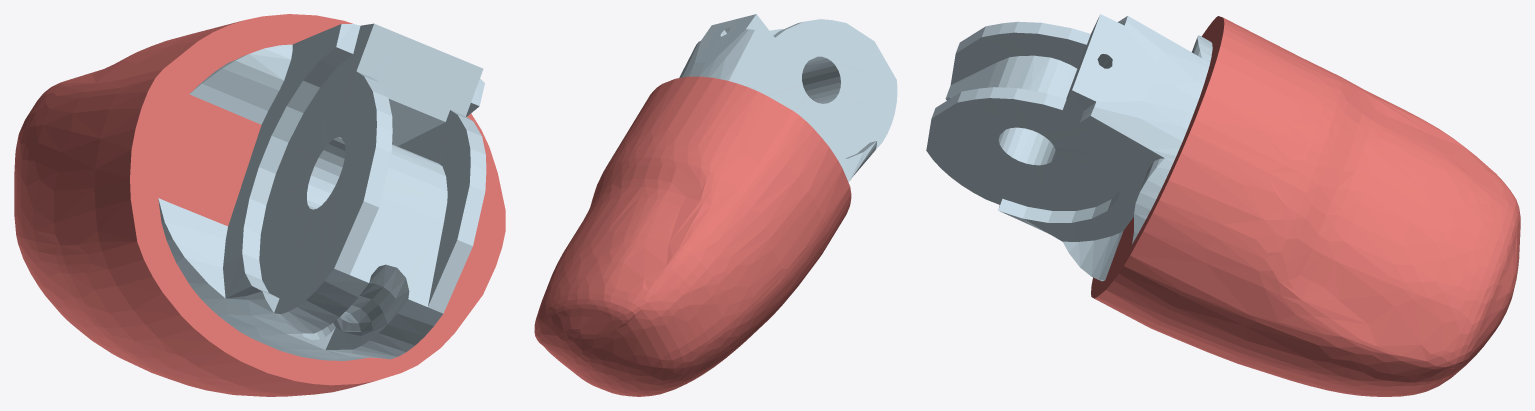
Rendered from i02_leftHand_indexTip_visual.obj.light.glb.
3 renders of one model, left to right at view 1: azimuth 30°, elevation 25°; view 2: azimuth 150°, elevation 25°; view 3: azimuth 270°, elevation 25°, orthographic. The views are drawn at different scales.
Bounding box in the file's own units: 0.1887 × 0.2409 × 0.3548.
